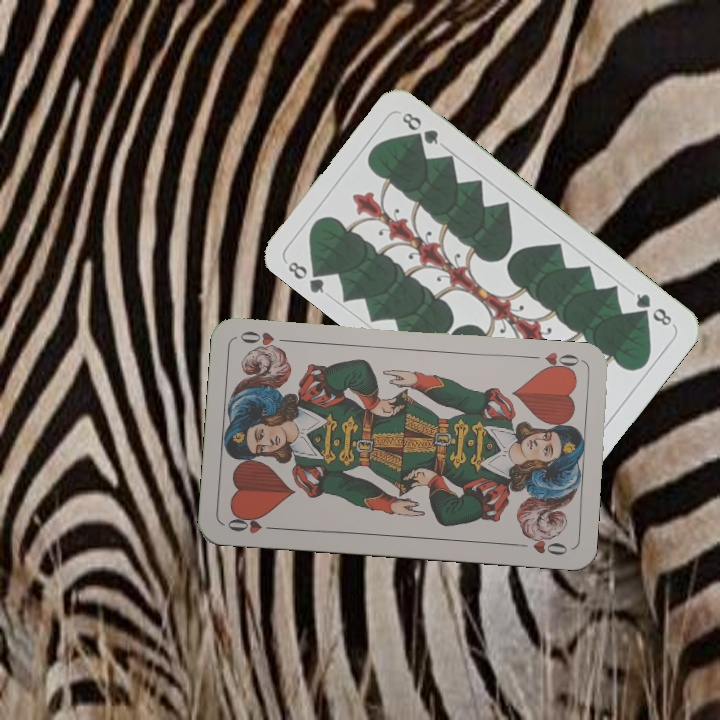G8: (283, 257, 330, 296), (631, 289, 675, 329)
HO: (223, 510, 281, 536), (536, 348, 582, 376)
